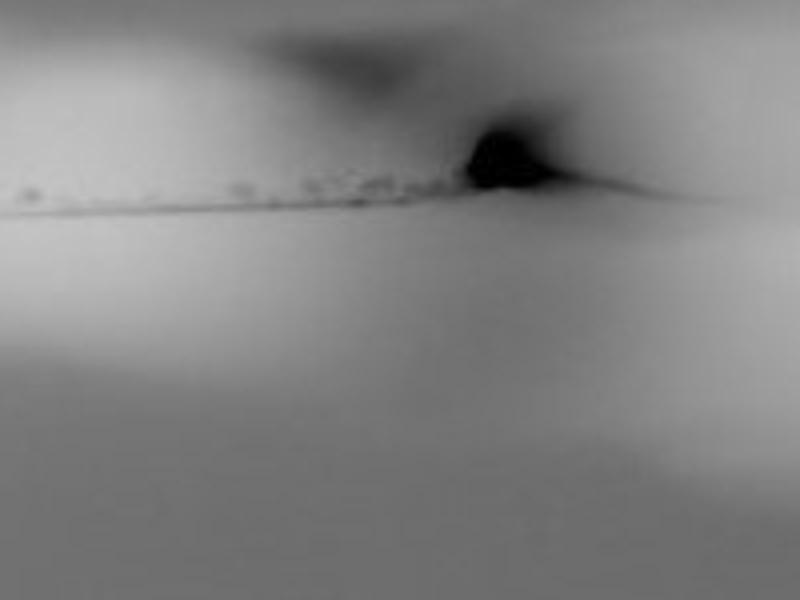defect: (467, 133, 554, 189), (360, 174, 398, 195), (228, 178, 255, 199), (301, 174, 326, 196), (23, 187, 46, 205)
